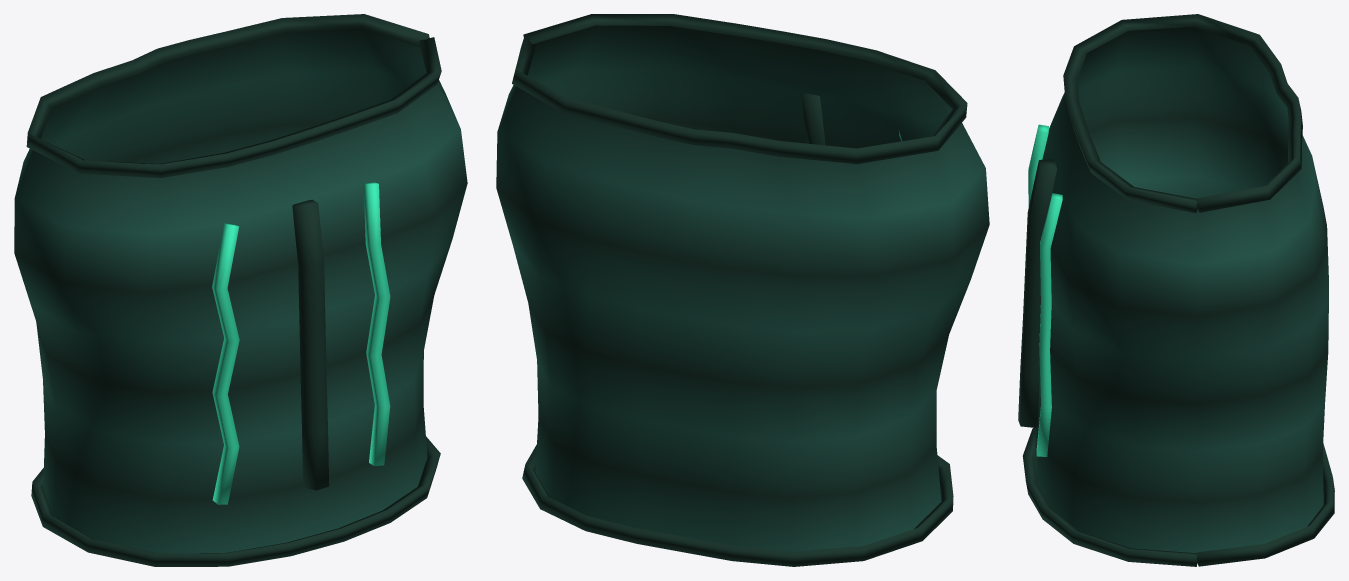
The model's file is vortex_armor_chest.glb.
The picture shows the model from 3 angles, left to right: view 1: azimuth 30°, elevation 25°; view 2: azimuth 150°, elevation 25°; view 3: azimuth 270°, elevation 25°; orthographic projection. The views are drawn at different scales.
Visible parts, largest first — view 1: vortex_armor_chest; view 2: vortex_armor_chest; view 3: vortex_armor_chest.
Boxes of the visible parts, x1,y1,x2,y2 form: vortex_armor_chest: (14,14,467,566); vortex_armor_chest: (496,14,989,566); vortex_armor_chest: (1018,14,1334,566).
Bounding box in the file's own units: 0.4364 × 0.3859 × 0.2937.
